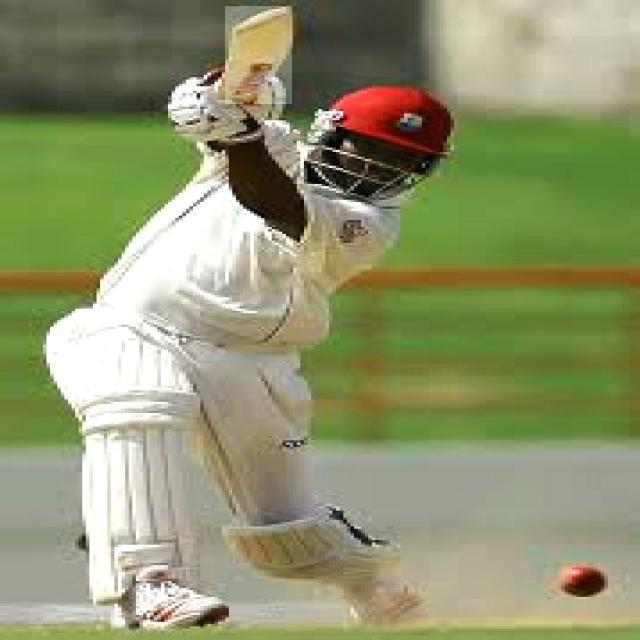bat: (228, 8, 292, 108)
toe: (240, 11, 281, 33)
